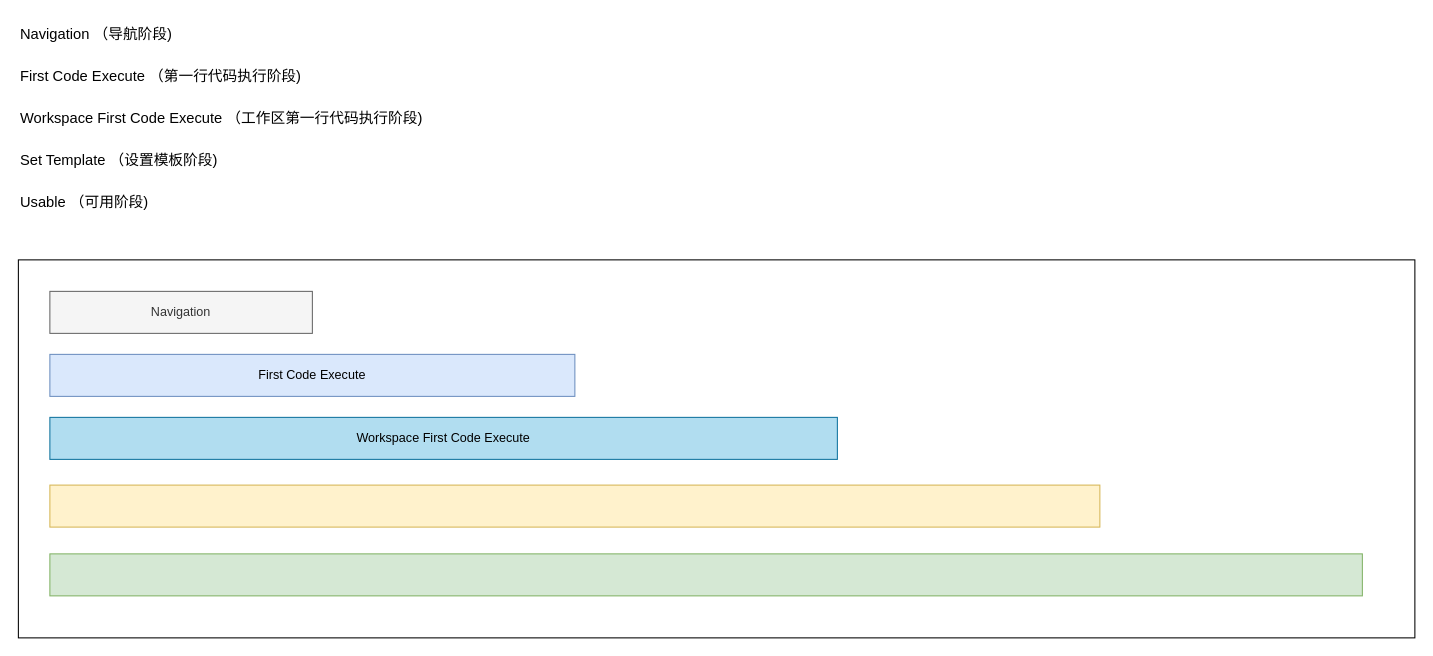
The diagram is 1433 pixels wide and 656 high, and some of its shapes have lost their labels. Here are the shapes that lost their labels. From the top down, the centre of each, then its label:
At pixel 574 505: "Set Template".
At pixel 705 574: "Usable".
